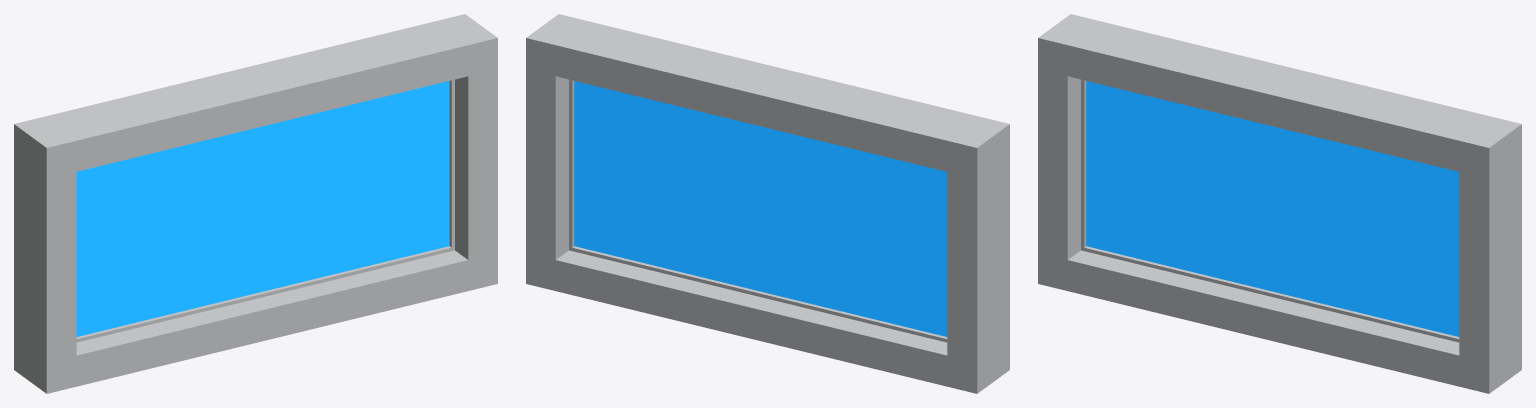
File: janela_larga_inteira_branca.glb
The picture shows the model from 3 angles, left to right: view 1: azimuth 30°, elevation 25°; view 2: azimuth 150°, elevation 25°; view 3: azimuth 330°, elevation 25°; orthographic projection.
Parts seen in each view (by area): view 1: janela_larga_inteira_branca; view 2: janela_larga_inteira_branca; view 3: janela_larga_inteira_branca.
Boxes of the visible parts, x1,y1,x2,y2 form: janela_larga_inteira_branca: (14,14,497,393); janela_larga_inteira_branca: (526,14,1009,393); janela_larga_inteira_branca: (1038,14,1521,393).
Size of the model in its own units: 1.67 by 0.87 by 0.21.
